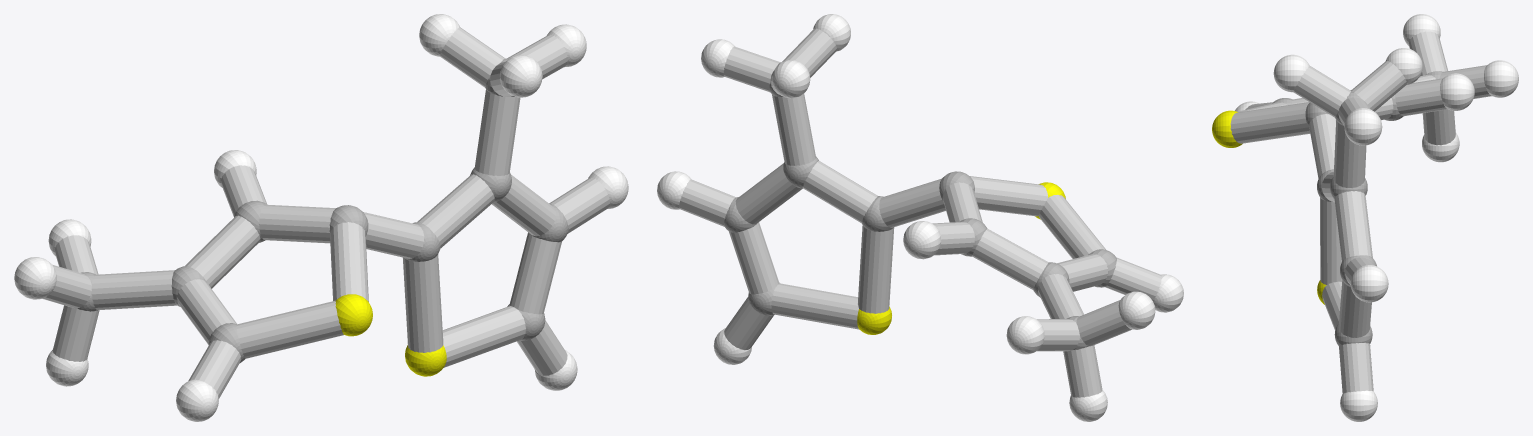
Rendered from Methylthiophene_Phi_50_Theta_260_Methylthiophene.glb.
3 views of the same model, side by side, from view 1: azimuth 30°, elevation 25°; view 2: azimuth 150°, elevation 25°; view 3: azimuth 270°, elevation 25° (orthographic). The views are drawn at different scales.
Visible parts, largest first — view 1: grp7965, grp3621, grp1, grp7241; view 2: grp7965, grp3621, grp1, grp7241; view 3: grp7965, grp3621, grp1, grp7241.
Boxes of the visible parts, left/top/right/bottom form: grp7965: left=42, top=27, right=610, bottom=398; grp3621: left=14, top=14, right=628, bottom=421; grp1: left=77, top=58, right=568, bottom=362; grp7241: left=335, top=294, right=446, bottom=376; grp7965: left=679, top=28, right=1161, bottom=397; grp3621: left=657, top=14, right=1183, bottom=421; grp1: left=724, top=62, right=1116, bottom=349; grp7241: left=857, top=182, right=1065, bottom=334; grp7965: left=1230, top=31, right=1491, bottom=393; grp3621: left=1235, top=14, right=1518, bottom=421; grp1: left=1272, top=71, right=1442, bottom=345; grp7241: left=1212, top=110, right=1326, bottom=304.
Size of the model in its own units: 9.35 by 5.82 by 4.87.
